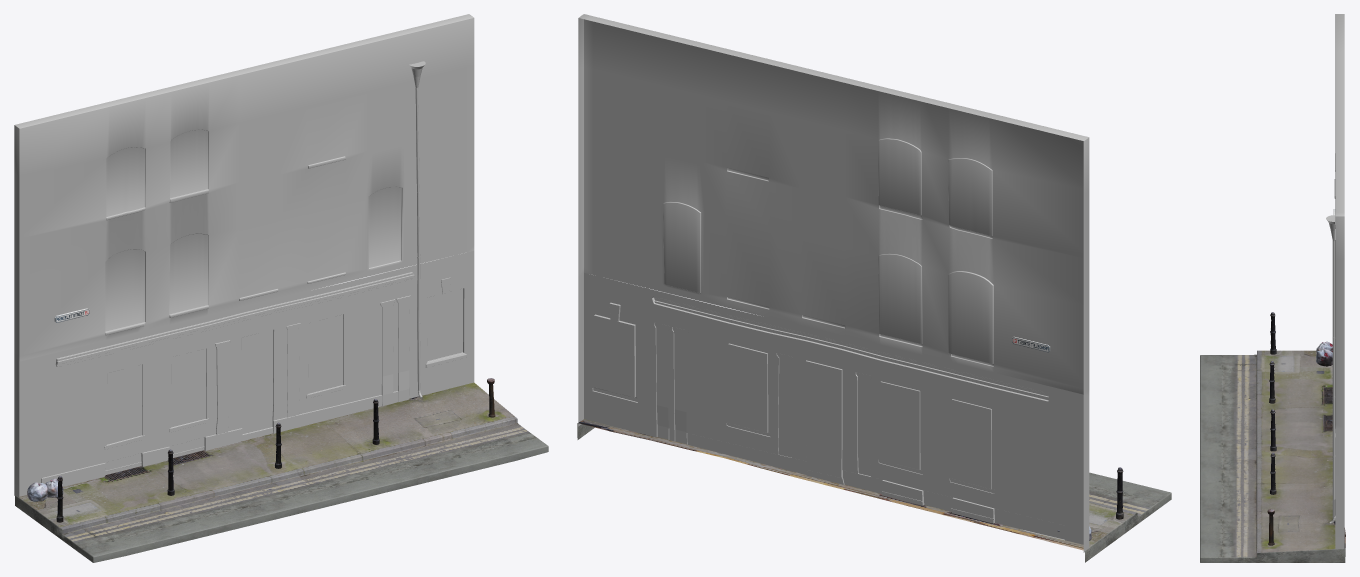
3 views of the same model, side by side, from view 1: azimuth 30°, elevation 25°; view 2: azimuth 150°, elevation 25°; view 3: azimuth 270°, elevation 25° (orthographic). The views are drawn at different scales.
Visible parts, largest first — view 1: Front_Texture_3, Front_9, Pavement_2, DrainPipe_13; view 2: Front_Texture_3, Front_9, Pavement_2; view 3: Pavement_2, Front_Texture_3, DrainPipe_13, Bag.001_10, Bollard.001_4, Bollard.002_5, Bollard.003_6, Bollard.004_7.
Boxes of the visible parts, box(x1,y1,x2,y2) form: Front_Texture_3: box(14, 14, 474, 497); Front_9: box(19, 251, 474, 496); Pavement_2: box(15, 382, 548, 562); DrainPipe_13: box(409, 61, 425, 398); Front_Texture_3: box(578, 14, 1089, 552); Front_9: box(584, 273, 1083, 544); Pavement_2: box(577, 419, 1171, 562); Pavement_2: box(1200, 350, 1345, 562); Front_Texture_3: box(1334, 14, 1344, 548); DrainPipe_13: box(1326, 215, 1335, 524); Bag.001_10: box(1316, 348, 1332, 366); Bollard.001_4: box(1270, 312, 1276, 354); Bollard.002_5: box(1269, 361, 1275, 403); Bollard.003_6: box(1270, 409, 1276, 451); Bollard.004_7: box(1270, 452, 1276, 494).
Size of the model in its own units: 11.71 by 9.36 by 3.56.
